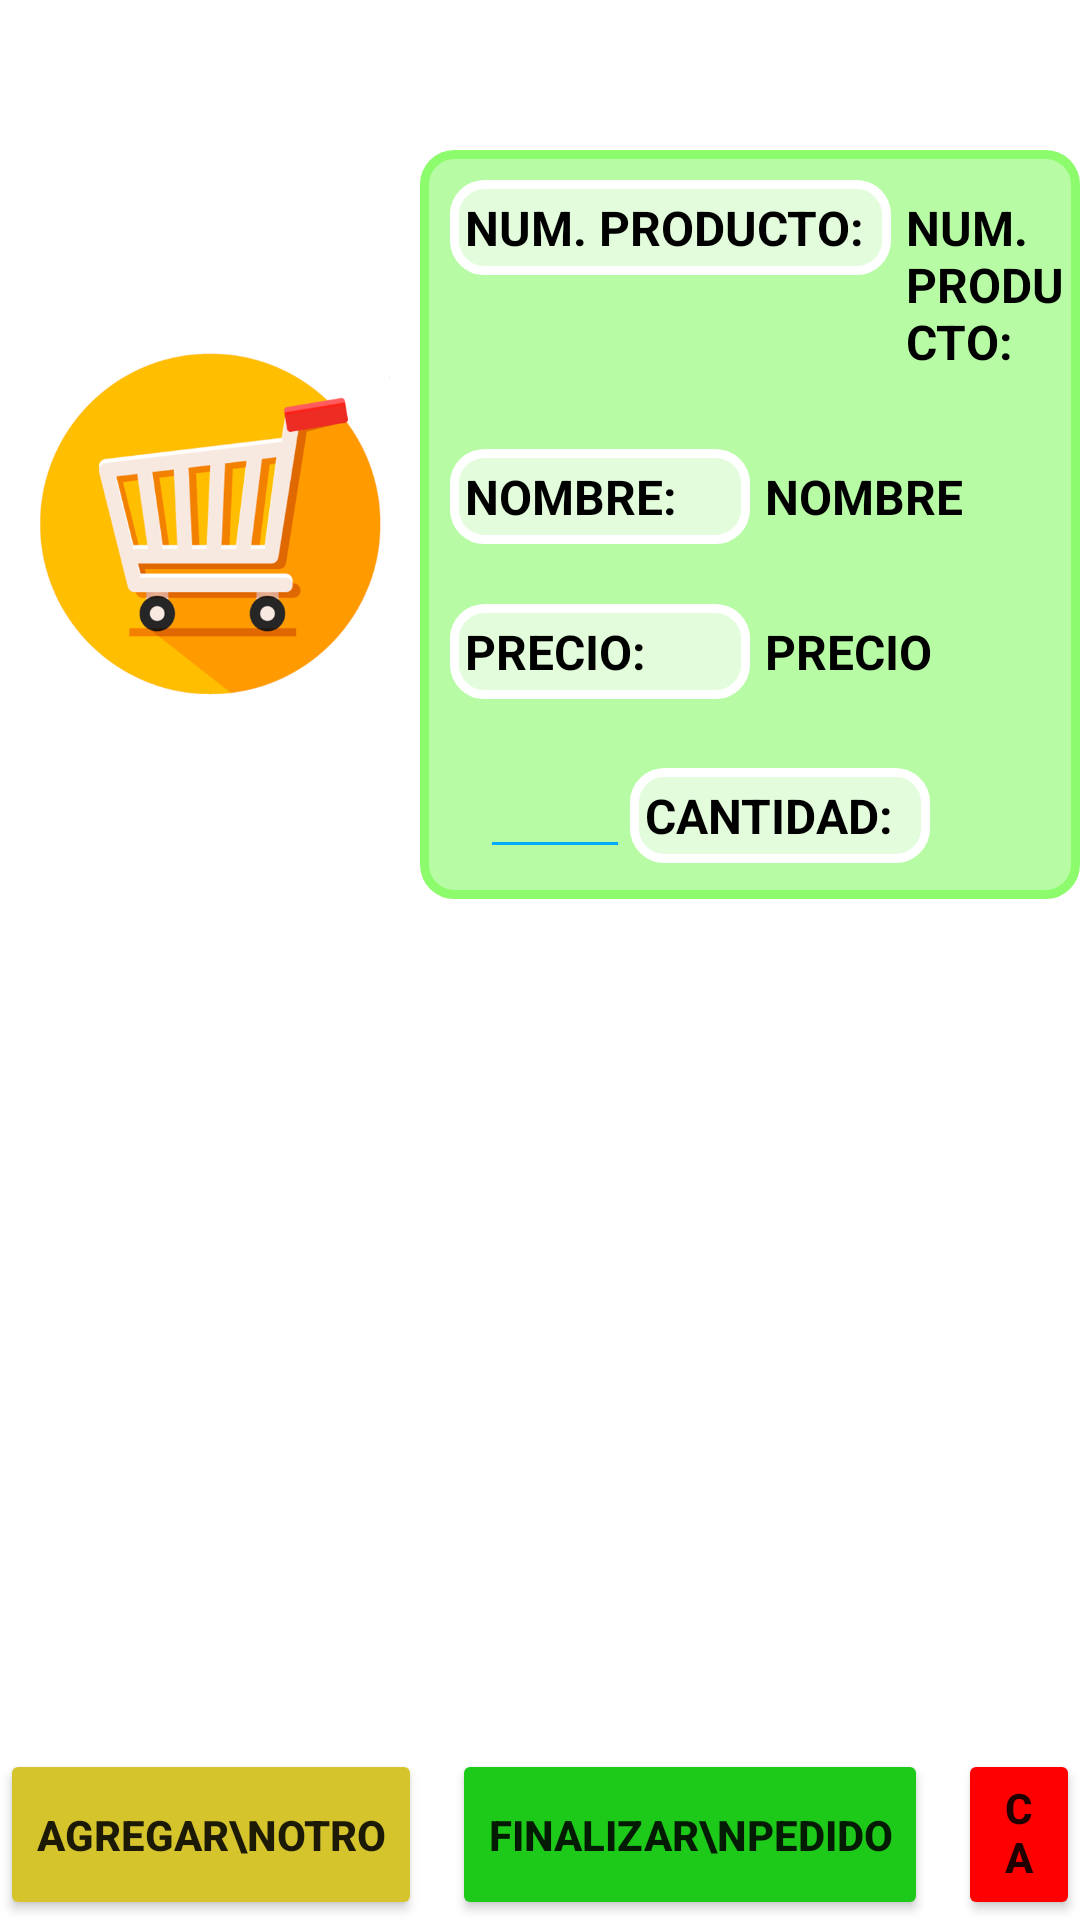

Where to tap for icons on this 1080x1920 app screen, as point (x, y):
ver pedidos: point (210, 524)
